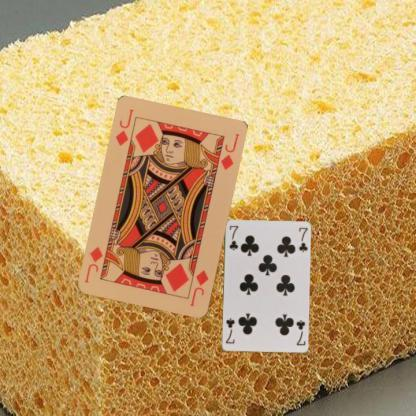7c: (226, 222, 240, 252), (294, 317, 306, 346)
Jd: (113, 107, 135, 148), (188, 268, 210, 308)
